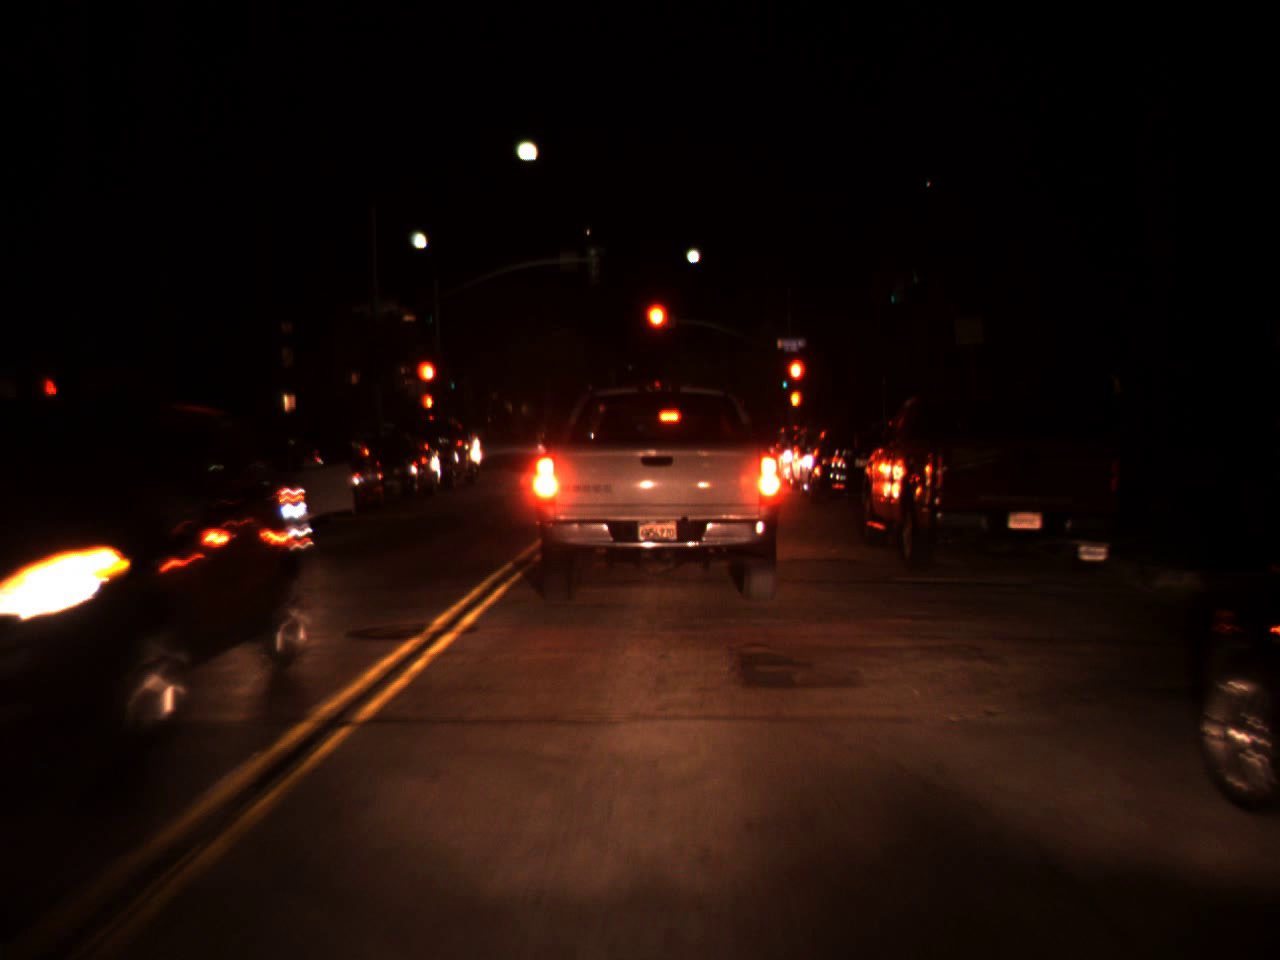stop: (642, 298, 670, 360), (784, 355, 808, 409), (414, 357, 439, 405)
